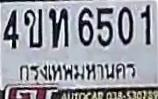0: (117, 6, 132, 44)
1: (140, 5, 150, 44)
4: (2, 9, 18, 48)
5: (96, 7, 112, 46)
6: (78, 7, 93, 45)
A02: (23, 8, 42, 47)
A23: (48, 7, 68, 46)
BKK: (18, 61, 137, 81)
